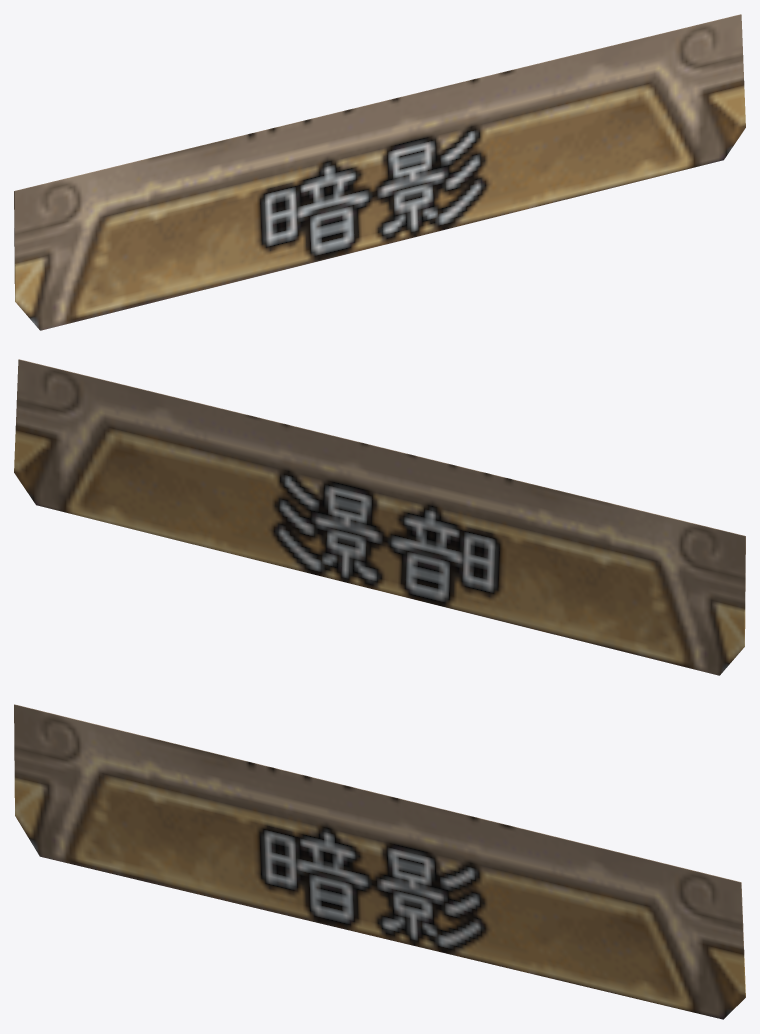
Rendered from School.glb.
3 renders of one model, top to bottom at view 1: azimuth 30°, elevation 25°; view 2: azimuth 150°, elevation 25°; view 3: azimuth 330°, elevation 25°, orthographic.
Parts seen in each view (by area): view 1: Circle.001; view 2: Circle.001; view 3: Circle.001.
Part boxes in pixels (<box>): Circle.001: <box>14,14,745,330</box>; Circle.001: <box>14,359,745,675</box>; Circle.001: <box>14,704,745,1019</box>.
Size of the model in its own units: 4.17 by 0.7939 by 0.005.
1 material, 1 textured.
